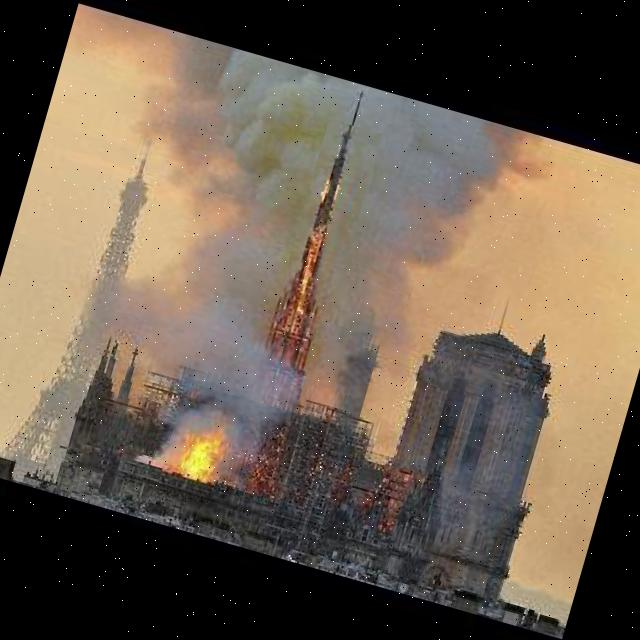fire: (248, 118, 382, 414), (158, 410, 232, 498)
